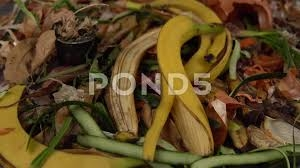kitchen_waste: (107, 9, 238, 159), (1, 80, 134, 168), (70, 116, 204, 168), (190, 142, 300, 167)
